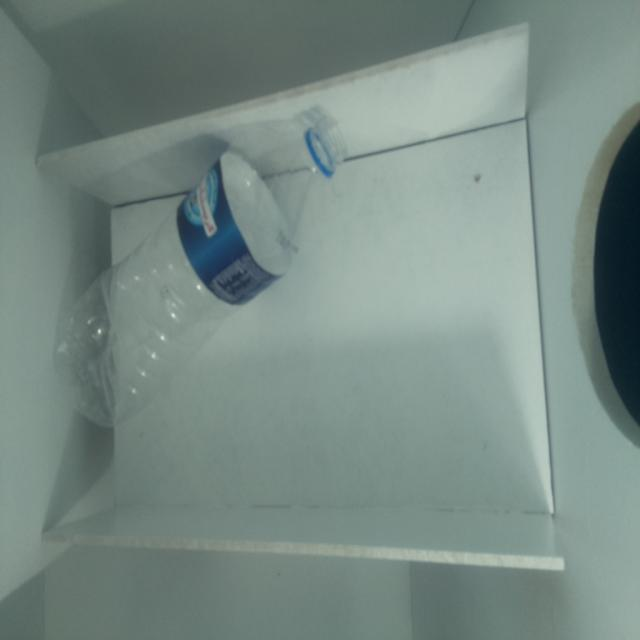Anorganik: (49, 104, 362, 438)
